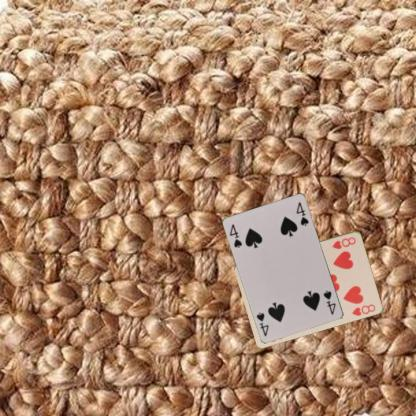4s: (227, 221, 244, 250), (321, 288, 337, 316)
8h: (330, 234, 357, 250)
